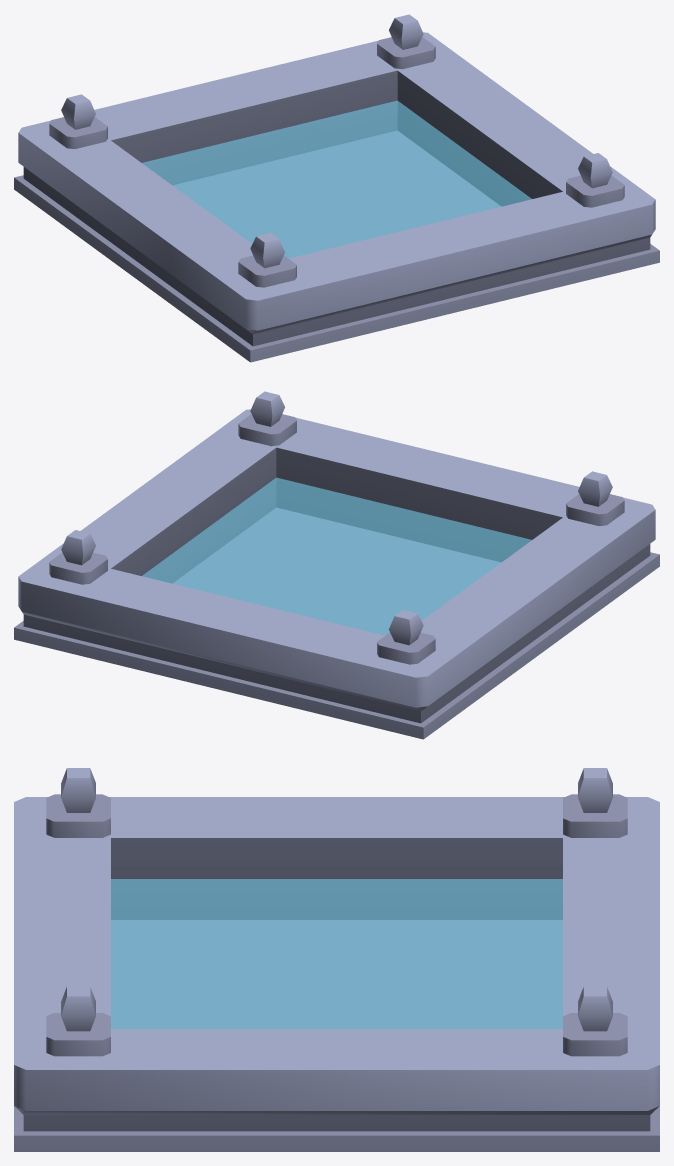
Rendered from fountain_square.glb.
3 renders of one model, top to bottom at view 1: azimuth 30°, elevation 25°; view 2: azimuth 150°, elevation 25°; view 3: azimuth 270°, elevation 25°, orthographic. The views are drawn at different scales.
Visible parts, largest first — view 1: fountain-square, (%ignore); view 2: fountain-square, (%ignore); view 3: fountain-square, (%ignore).
Boxes of the visible parts, x1,y1,x2,y2 form: fountain-square: (14, 14, 659, 362); (%ignore): (142, 100, 531, 258); fountain-square: (14, 391, 659, 739); (%ignore): (142, 477, 531, 635); fountain-square: (14, 768, 659, 1151); (%ignore): (111, 879, 562, 1028).
Bounding box in the file's own units: 7.03 × 1.6 × 7.03.
2 materials, 1 textured.
